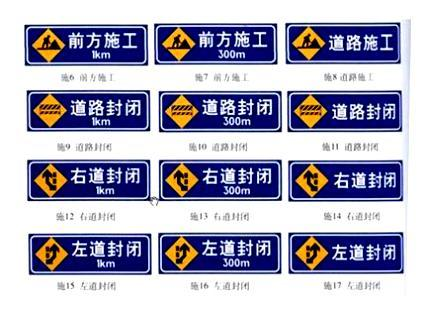sign: (29, 233, 150, 275), (27, 89, 148, 129), (161, 161, 280, 200), (27, 161, 149, 199), (25, 27, 146, 65), (160, 92, 280, 130), (160, 234, 280, 272), (156, 25, 276, 62), (289, 233, 402, 272), (288, 92, 400, 131), (289, 161, 401, 200), (287, 25, 400, 62)
